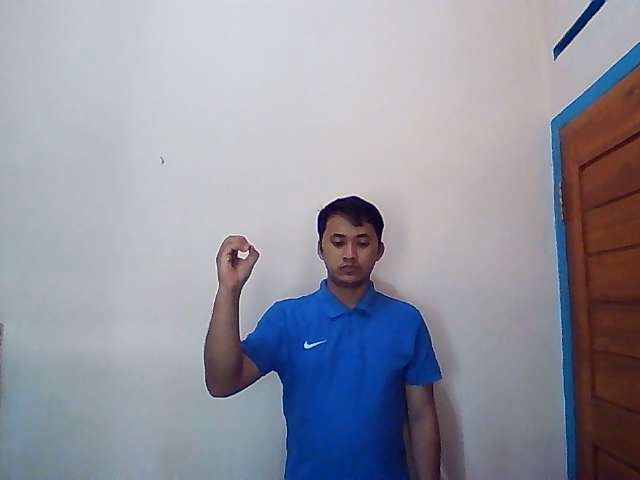O: (215, 234, 259, 289)
